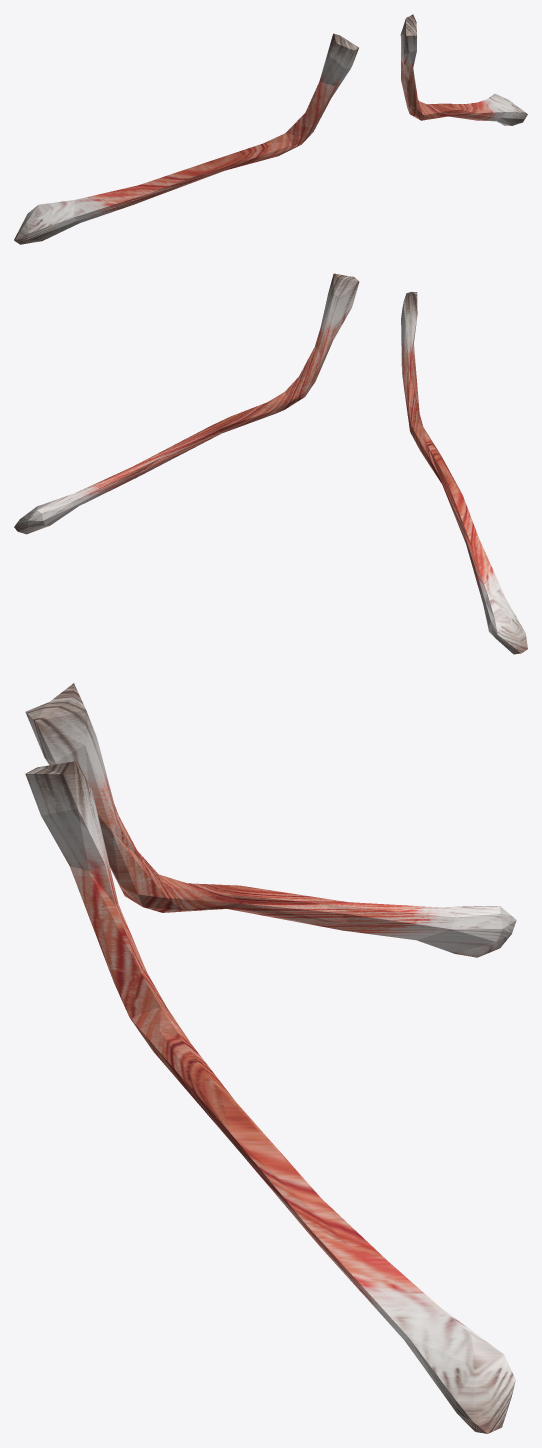
File: Omohyoid.obj
3 renders of one model, top to bottom at view 1: azimuth 30°, elevation 25°; view 2: azimuth 150°, elevation 25°; view 3: azimuth 270°, elevation 25°, orthographic. The views are drawn at different scales.
Parts seen in each view (by area): view 1: Musculos_Cabeza_1:Omohyoid:Omohyoid; view 2: Musculos_Cabeza_1:Omohyoid:Omohyoid; view 3: Musculos_Cabeza_1:Omohyoid:Omohyoid.
Boxes of the visible parts, <box> form: Musculos_Cabeza_1:Omohyoid:Omohyoid: <box>14,14,527,244</box>; Musculos_Cabeza_1:Omohyoid:Omohyoid: <box>14,273,527,654</box>; Musculos_Cabeza_1:Omohyoid:Omohyoid: <box>25,683,516,1433</box>.
Size of the model in its own units: 0.9251 by 0.4069 by 0.384.
1 material, 1 textured.
